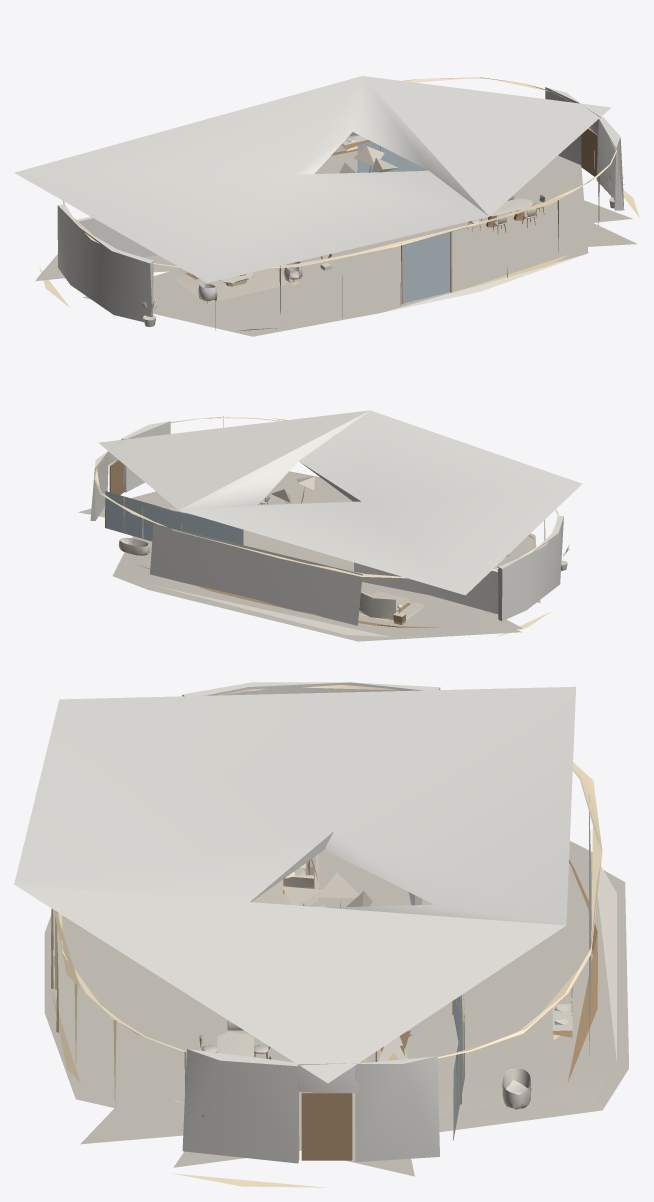
File: Dune_LOD1.dae
3 renders of one model, top to bottom at view 1: azimuth 30°, elevation 25°; view 2: azimuth 150°, elevation 25°; view 3: azimuth 270°, elevation 25°, orthographic. The views are drawn at different scales.
Parts seen in each view (by area): view 1: Dune_Roof_LOD1, Dune_Floor_LOD1, Dune_Wall_W_LOD1, Dune_Door_S_LOD1, Dune_Wall_E_LOD1, Dune_Rug_LOD1, Dune_Glass_S_LOD1, Dune_Partition_LOD1, Dune_Bath_Screen_LOD1, Dune_Door_E_LOD1, Dune_Courtyard_LOD1, Dune_Dining_Table_LOD1; view 2: Dune_Roof_LOD1, Dune_Floor_LOD1, Dune_Wall_N_LOD1, Dune_Wall_W_LOD1, Dune_Bath_Screen_LOD1, Dune_Partition_LOD1, Dune_Wall_E_LOD1, Dune_Bed_LOD1, Dune_Courtyard_LOD1, Dune_Door_E_LOD1, Dune_Bathtub_LOD1; view 3: Dune_Roof_LOD1, Dune_Floor_LOD1, Dune_Wall_E_LOD1, Dune_Door_E_LOD1, Dune_Wall_W_LOD1, Dune_Wall_N_LOD1, Dune_Glass_S_LOD1, Dune_Courtyard_LOD1, Dune_Bath_Screen_LOD1, Dune_Bathtub_LOD1, Dune_Dining_Table_LOD1, Dune_Rug_LOD1 (+1 smaller).
Boxes of the visible parts, x1,y1,x2,y2 form: Dune_Roof_LOD1: [14, 76, 616, 282]; Dune_Floor_LOD1: [35, 150, 639, 336]; Dune_Wall_W_LOD1: [57, 204, 153, 321]; Dune_Door_S_LOD1: [401, 231, 452, 304]; Dune_Wall_E_LOD1: [545, 87, 624, 210]; Dune_Rug_LOD1: [176, 268, 287, 301]; Dune_Glass_S_LOD1: [151, 149, 618, 331]; Dune_Partition_LOD1: [76, 216, 157, 257]; Dune_Bath_Screen_LOD1: [357, 142, 426, 172]; Dune_Door_E_LOD1: [581, 128, 598, 176]; Dune_Courtyard_LOD1: [339, 146, 398, 173]; Dune_Dining_Table_LOD1: [486, 198, 532, 227]; Dune_Roof_LOD1: [94, 410, 582, 595]; Dune_Floor_LOD1: [78, 472, 551, 641]; Dune_Wall_N_LOD1: [137, 524, 439, 627]; Dune_Wall_W_LOD1: [498, 516, 563, 620]; Dune_Bath_Screen_LOD1: [105, 491, 243, 545]; Dune_Partition_LOD1: [354, 562, 498, 614]; Dune_Wall_E_LOD1: [90, 421, 170, 520]; Dune_Bed_LOD1: [359, 591, 410, 621]; Dune_Courtyard_LOD1: [261, 476, 333, 560]; Dune_Door_E_LOD1: [109, 459, 123, 494]; Dune_Bathtub_LOD1: [118, 537, 149, 555]; Dune_Roof_LOD1: [14, 685, 602, 1083]; Dune_Floor_LOD1: [44, 841, 628, 1187]; Dune_Wall_E_LOD1: [182, 1049, 439, 1163]; Dune_Door_E_LOD1: [301, 1092, 352, 1160]; Dune_Wall_W_LOD1: [182, 682, 440, 696]; Dune_Wall_N_LOD1: [568, 795, 597, 1081]; Dune_Glass_S_LOD1: [51, 908, 185, 1109]; Dune_Courtyard_LOD1: [282, 872, 372, 907]; Dune_Bath_Screen_LOD1: [452, 994, 465, 1140]; Dune_Bathtub_LOD1: [502, 1068, 531, 1109]; Dune_Dining_Table_LOD1: [217, 1031, 254, 1057]; Dune_Rug_LOD1: [252, 854, 319, 905].
Size of the model in its own units: 27.8 by 17.8 by 4.34.
